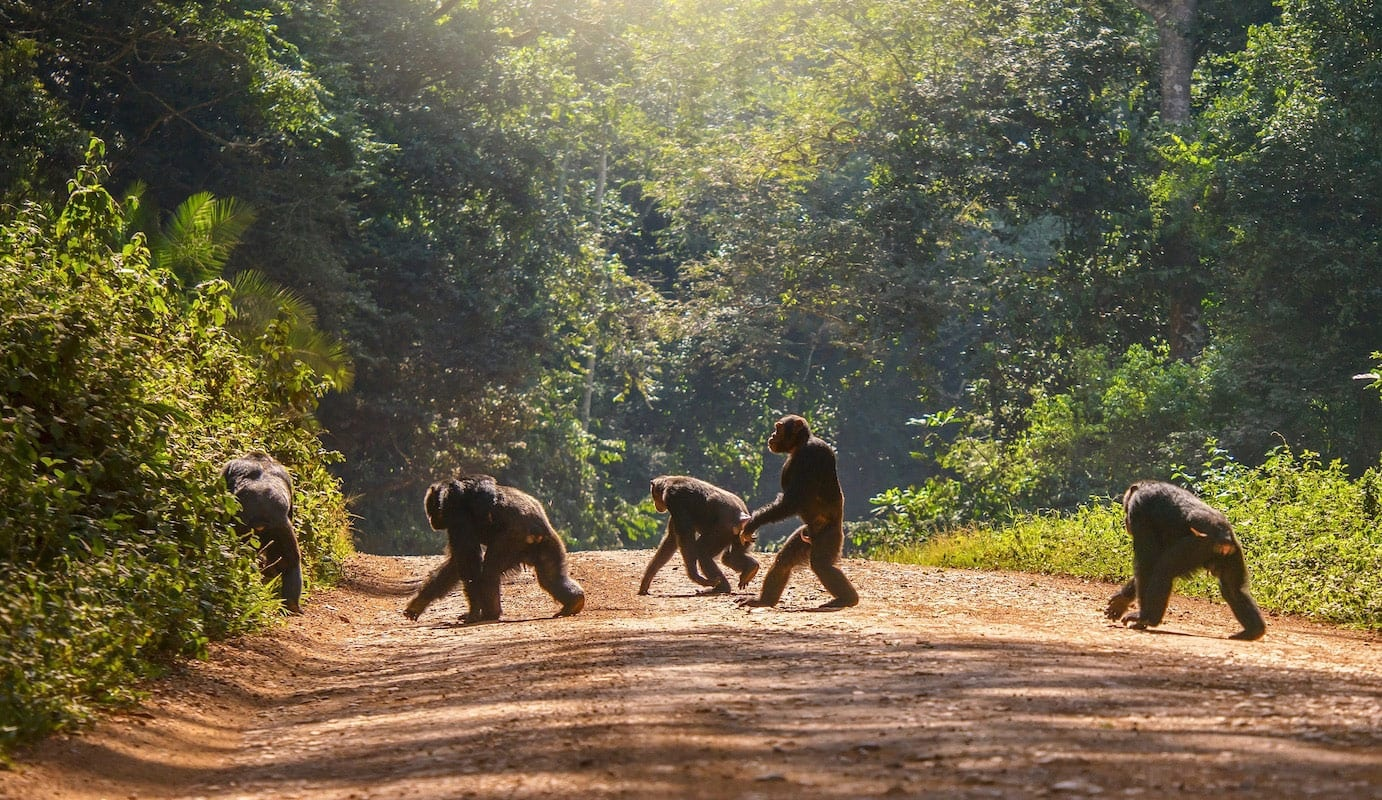gorilla: (401, 473, 591, 626), (737, 409, 871, 618), (1105, 472, 1271, 640), (199, 432, 318, 614), (636, 462, 762, 603)
